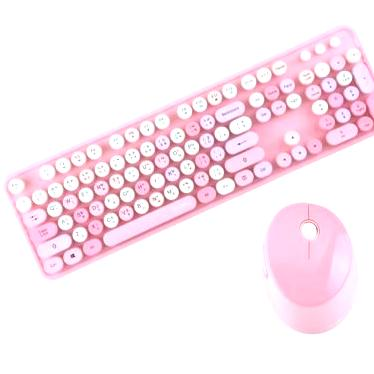keyboard: (1, 21, 374, 285)
